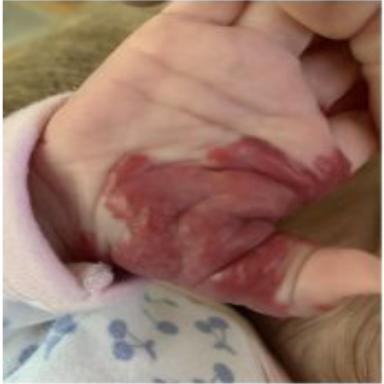Hemangiome: (101, 137, 351, 315)
